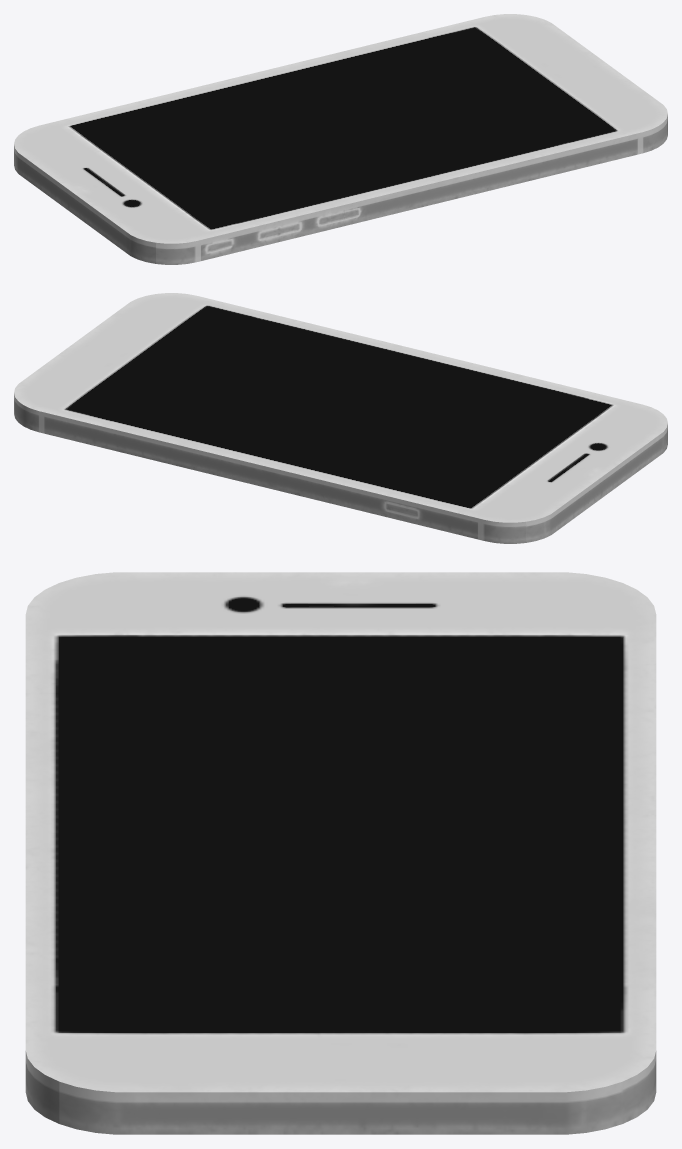
File: SM_Phone.fbx
3 renders of one model, top to bottom at view 1: azimuth 30°, elevation 25°; view 2: azimuth 150°, elevation 25°; view 3: azimuth 270°, elevation 25°, orthographic. The views are drawn at different scales.
Visible parts, largest first — view 1: SM_Phone_LOD0; view 2: SM_Phone_LOD0; view 3: SM_Phone_LOD0.
Part boxes in pixels (x1,y1,x2,y2): SM_Phone_LOD0: [14, 14, 667, 264]; SM_Phone_LOD0: [14, 293, 667, 543]; SM_Phone_LOD0: [25, 572, 656, 1134].
Bounding box in the file's own units: 24.53 × 12.57 × 0.9342.
Materials: 1 (1 with a texture image).
